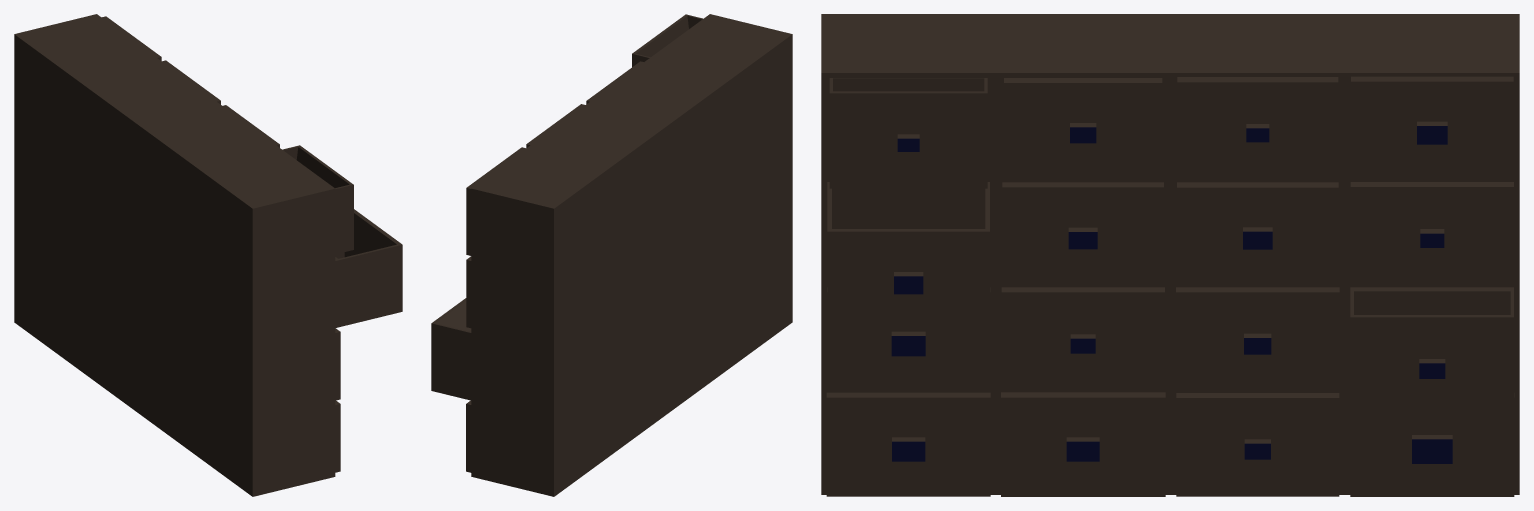
Rendered from wandschrank.schubladen.glb.
3 views of the same model, side by side, from view 1: azimuth 30°, elevation 25°; view 2: azimuth 150°, elevation 25°; view 3: azimuth 270°, elevation 25° (orthographic). The views are drawn at different scales.
Visible parts, largest first — view 1: Cube; view 2: Cube; view 3: Cube.
Boxes of the visible parts, box(x1,y1,x2,y2) form: Cube: box(14, 14, 402, 496); Cube: box(431, 14, 792, 496); Cube: box(821, 14, 1519, 496).
Bounding box in the file's own units: 2.3 × 4 × 6.
